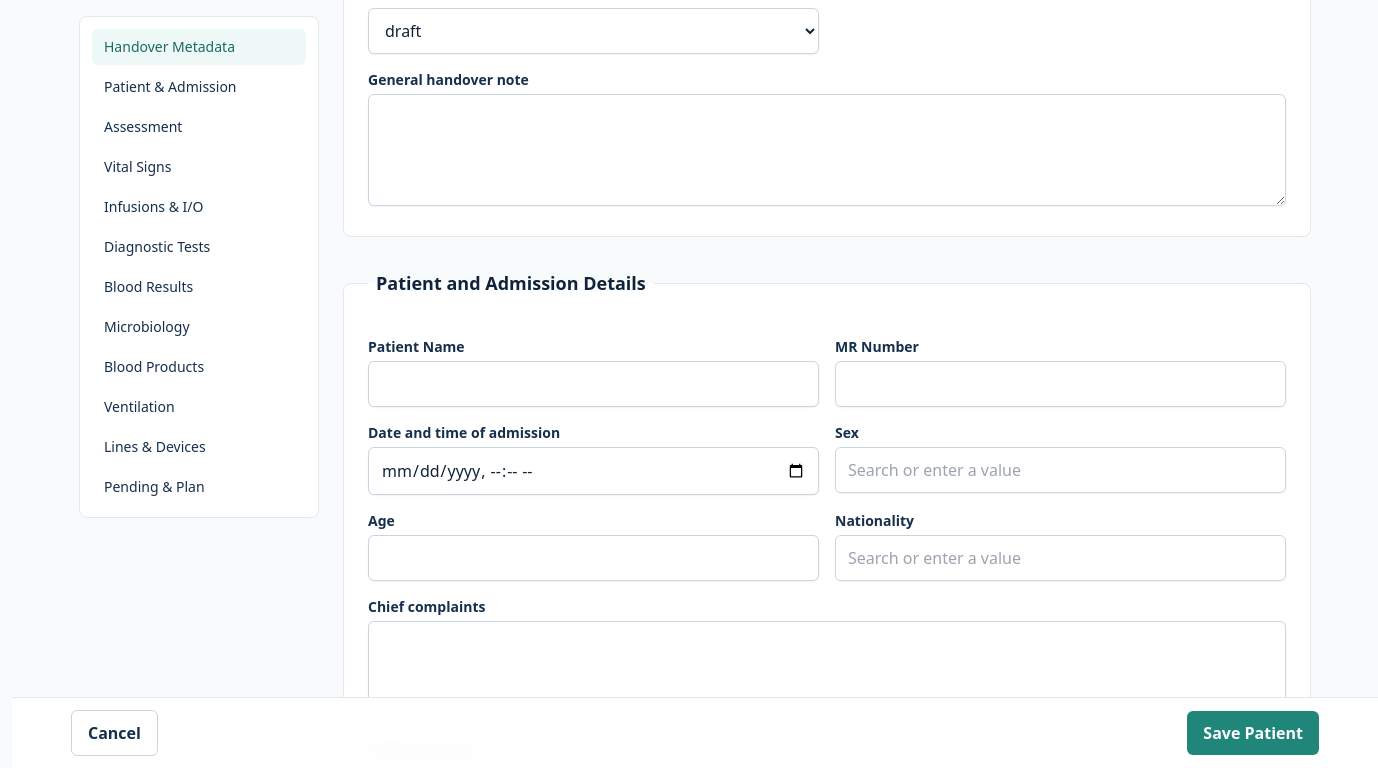
PatientFormPage › saves and redirects home
This screenshot has width=1378, height=768.
(page scrolled)
Type "Synthetic Save" into the field labelled "Patient Name" at (594, 384), box [368,361,819,407]
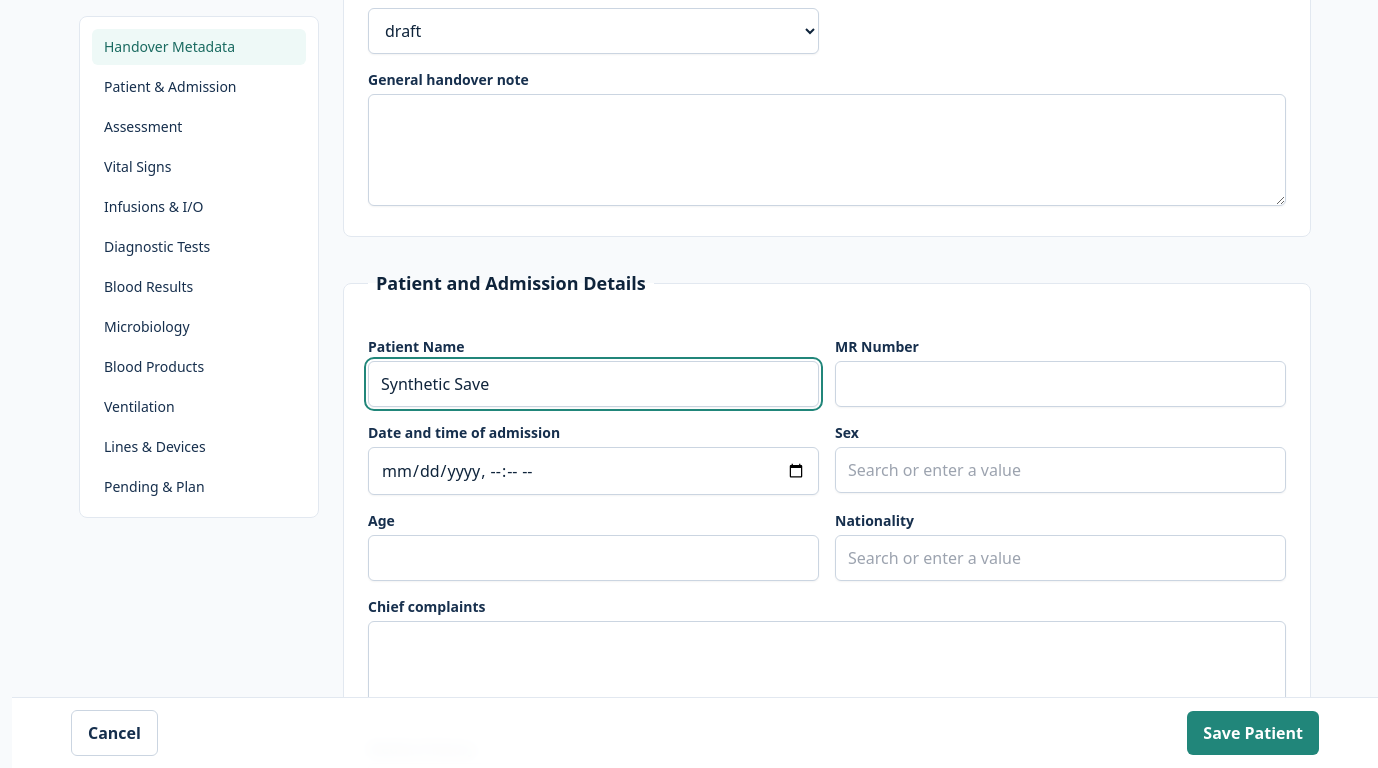
Type "SYN-SAVE" into the field labelled "MR Number" at (1060, 384), box [835,361,1286,407]
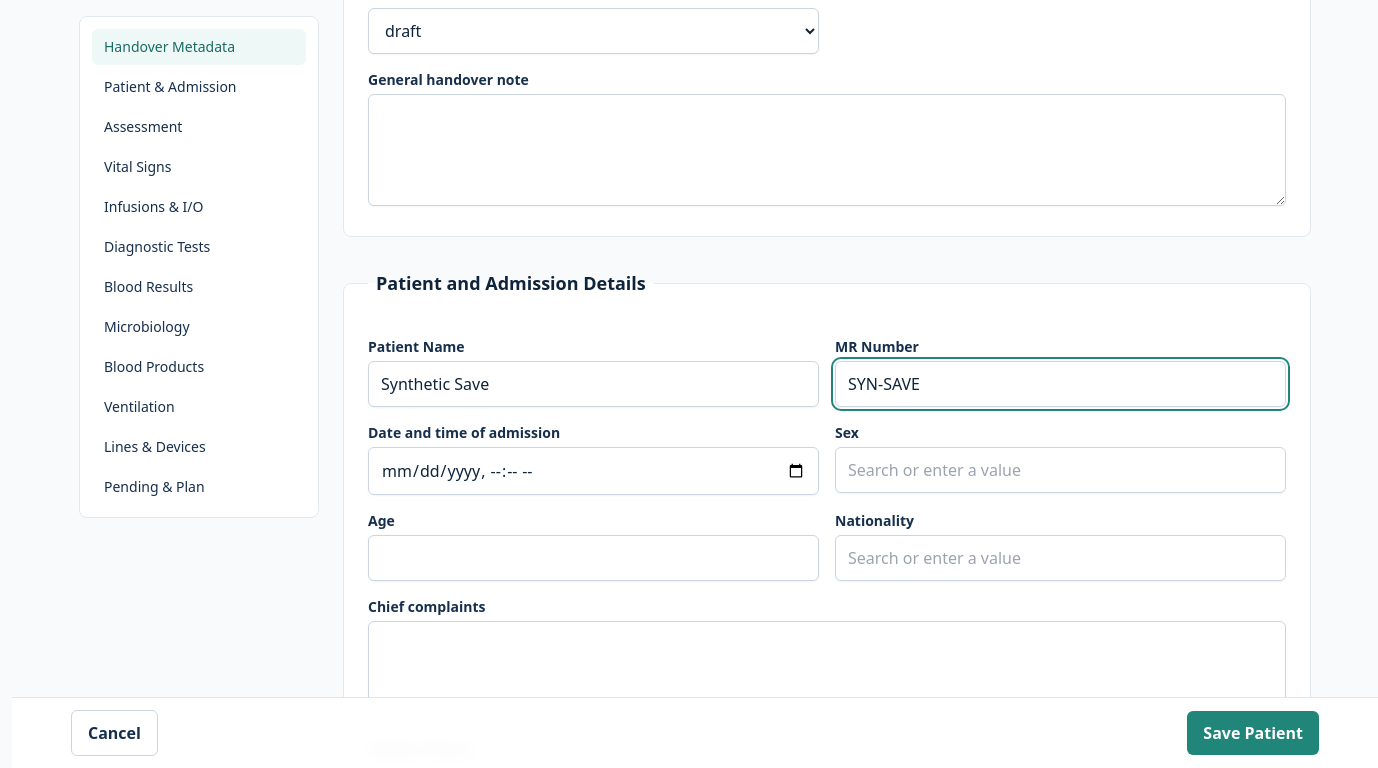
Click the button "Save Patient" at (1253, 733), box [1187,711,1319,755]
(page scrolled)
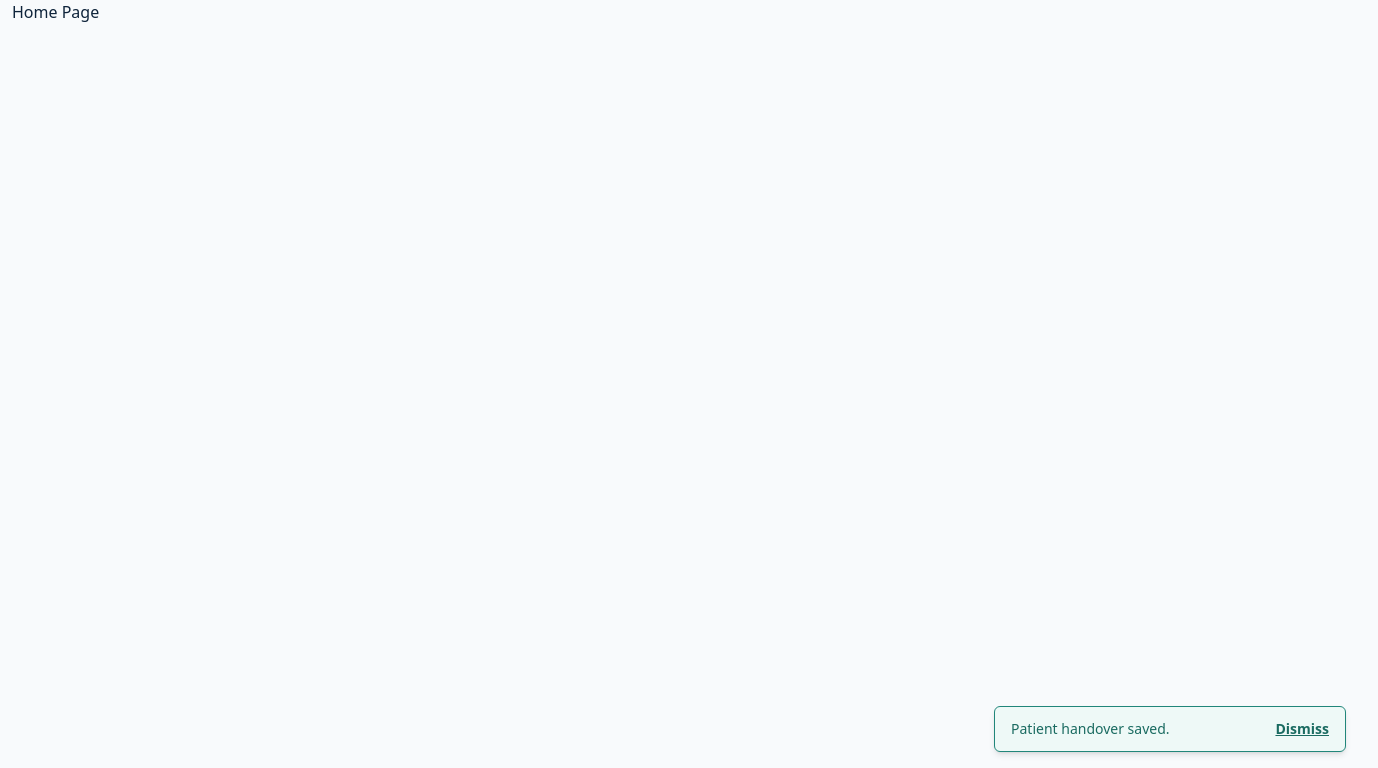
Expected: the text "Home Page" is shown, [12,1,99,23]
